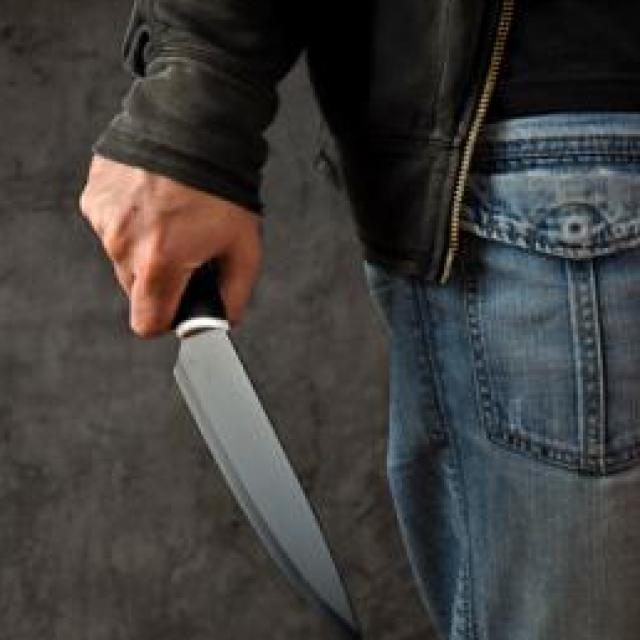knife: (80, 221, 374, 640)
